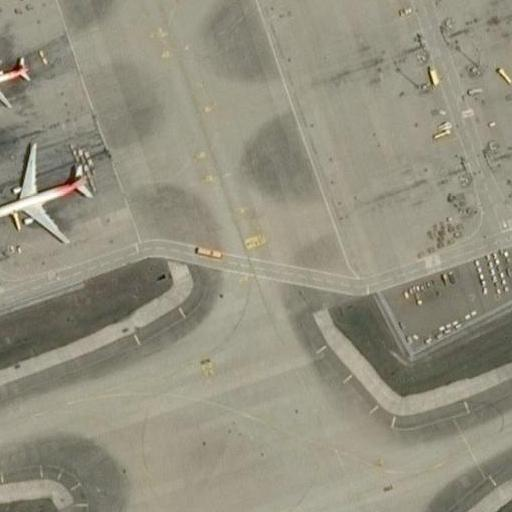Aircraft: (0, 135, 95, 245), (0, 141, 94, 245), (0, 36, 38, 112), (0, 42, 34, 109)
